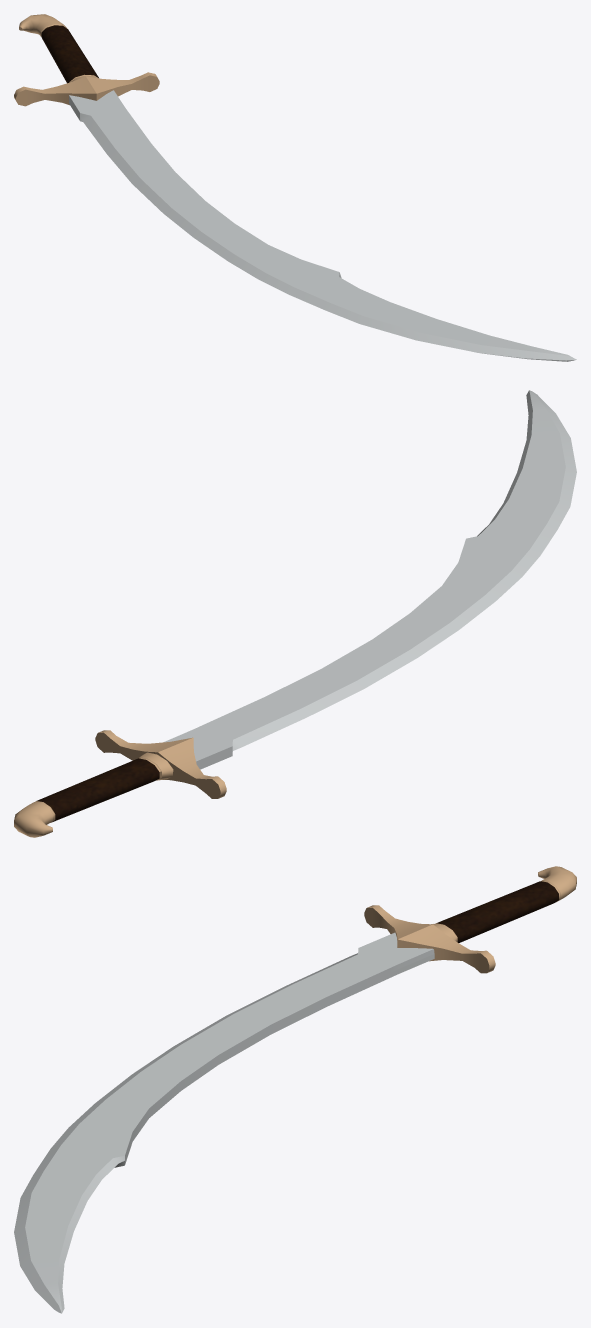
The model's file is tidecutter.glb.
The picture shows the model from 3 angles, top to bottom: view 1: azimuth 30°, elevation 25°; view 2: azimuth 150°, elevation 25°; view 3: azimuth 330°, elevation 25°; orthographic projection. The views are drawn at different scales.
Visible parts, largest first — view 1: Handle_LP; view 2: Handle_LP; view 3: Handle_LP.
Boxes of the visible parts, x1,y1,x2,y2 form: Handle_LP: (14,14,576,361); Handle_LP: (14,390,576,837); Handle_LP: (14,866,576,1313).
Bounding box in the file's own units: 0.1838 × 0.0248 × 0.95.
Materials: 1 (1 with a texture image).
